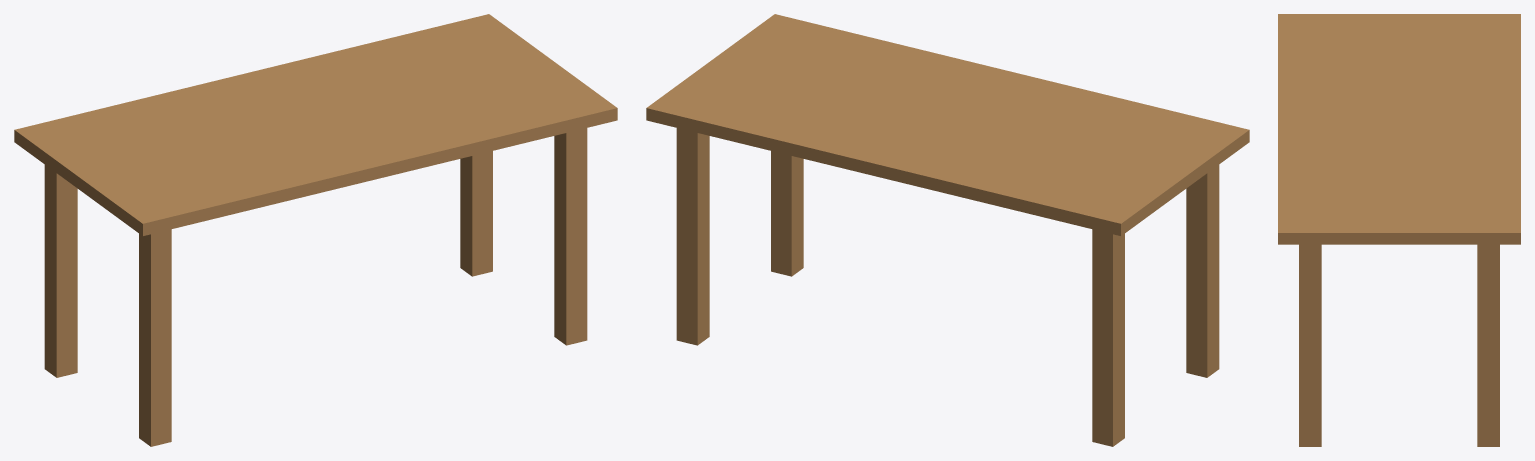
3 renders of one model, left to right at view 1: azimuth 30°, elevation 25°; view 2: azimuth 150°, elevation 25°; view 3: azimuth 270°, elevation 25°, orthographic. The views are drawn at different scales.
Parts seen in each view (by area): view 1: mesa_of3; view 2: mesa_of3; view 3: mesa_of3.
Part boxes in pixels (left/top/right/bottom): mesa_of3: left=14, top=14, right=617, bottom=446; mesa_of3: left=646, top=14, right=1249, bottom=446; mesa_of3: left=1278, top=14, right=1520, bottom=446.
Bounding box in the file's own units: 1.6 × 0.75 × 0.76.
